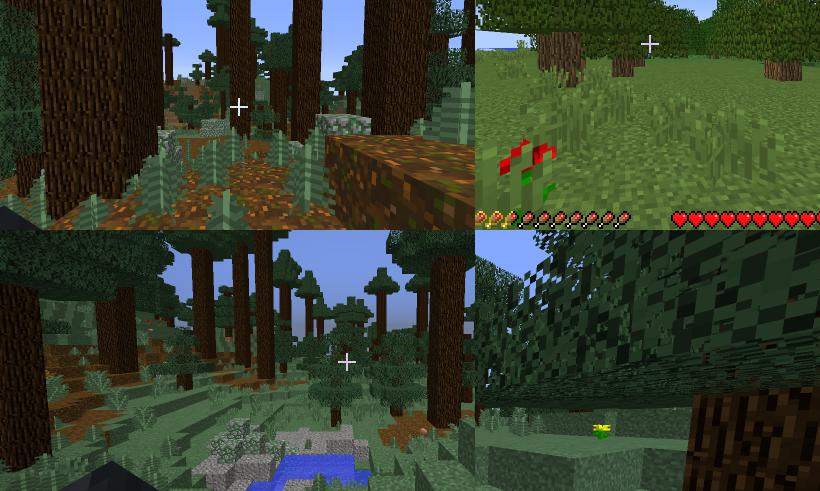minecraft-blocks: (41, 1, 154, 226), (684, 396, 820, 491), (367, 1, 441, 143), (1, 277, 53, 465), (431, 260, 465, 428), (294, 1, 328, 143), (96, 299, 142, 373), (231, 1, 254, 140), (191, 253, 218, 364), (261, 236, 278, 383), (553, 33, 587, 89), (764, 61, 803, 83), (538, 35, 554, 75), (377, 293, 389, 340), (613, 57, 635, 77), (635, 59, 647, 69)
